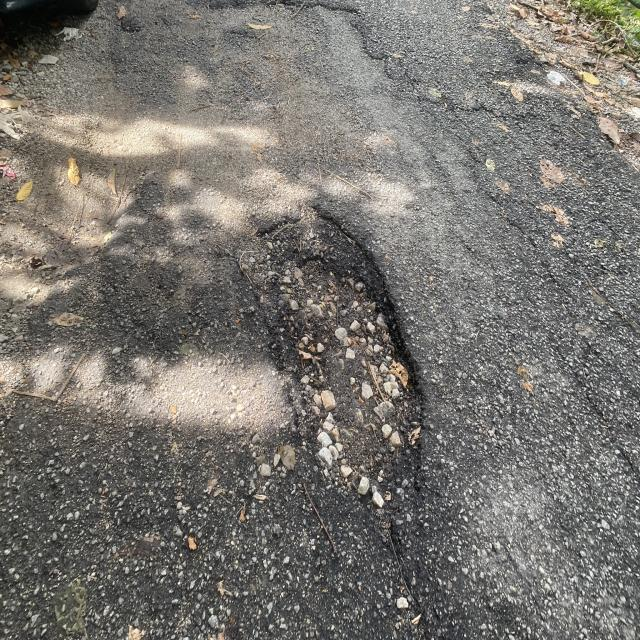pothole: (213, 150, 396, 570)
